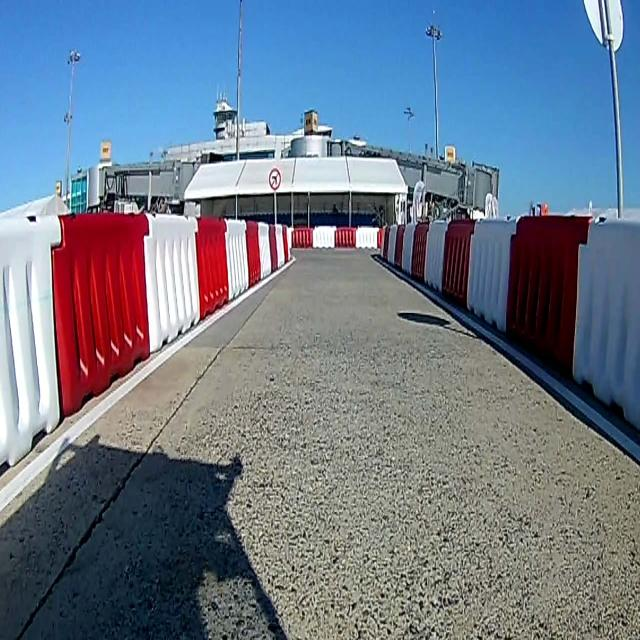soladonulmez: (268, 166, 280, 190)
